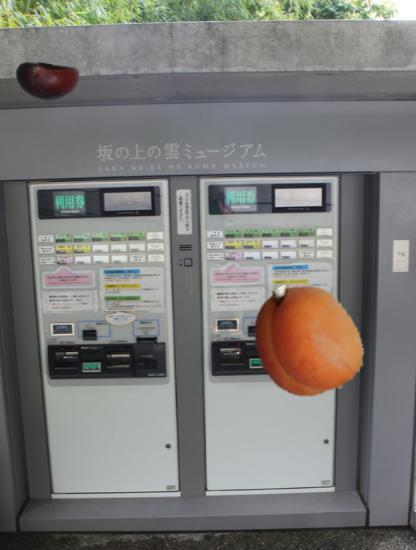Apricot: (247, 281, 365, 399)
Chestnut: (14, 49, 80, 115)
